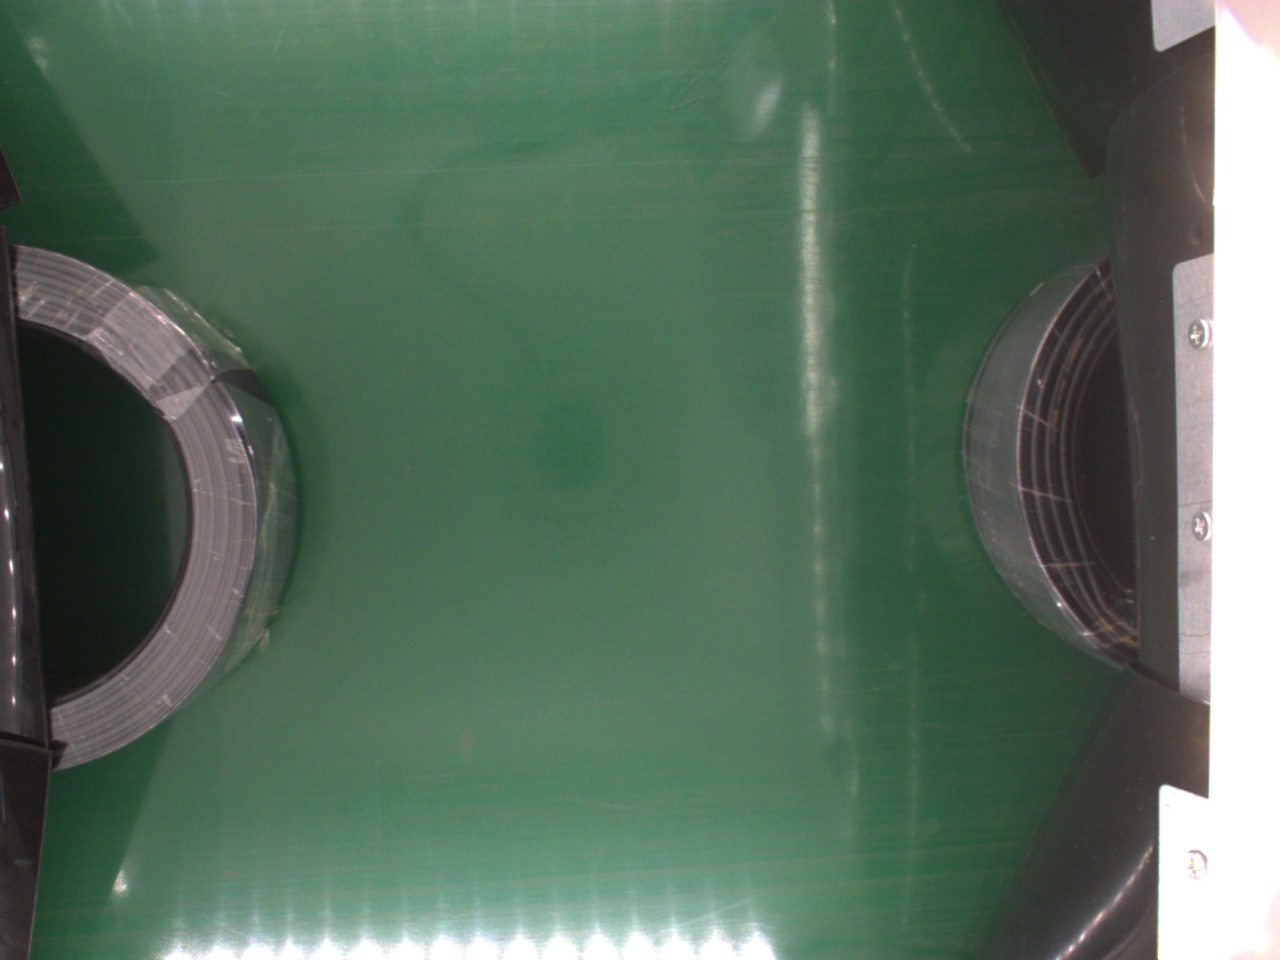black: (8, 243, 300, 770), (955, 263, 1140, 674)
